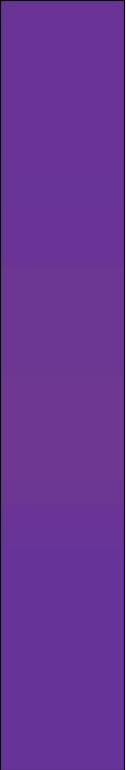safe: (9, 13, 120, 761)
